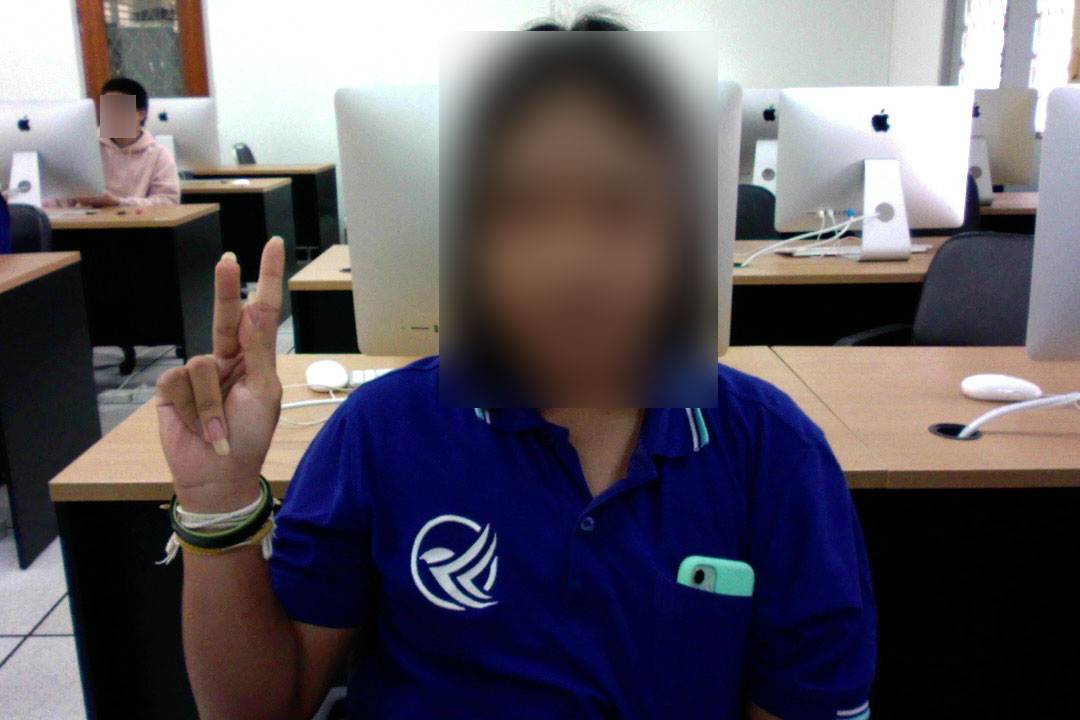ko: (142, 231, 297, 516)
